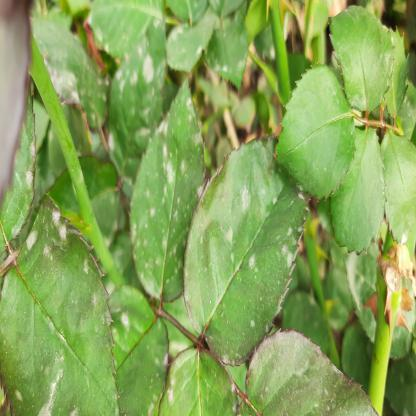normal: (274, 60, 362, 204), (328, 124, 388, 260), (329, 3, 403, 108)
powdery-mildew: (189, 127, 307, 368), (3, 208, 122, 410), (129, 80, 213, 306), (29, 7, 111, 132), (92, 282, 170, 412), (110, 7, 164, 177)
